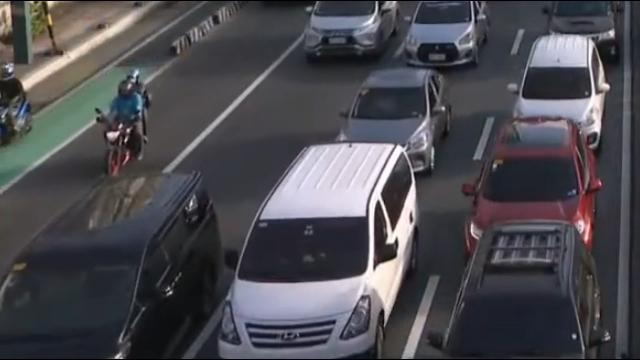car: (449, 123, 628, 246), (447, 225, 602, 360), (325, 63, 461, 181), (500, 29, 613, 142), (291, 0, 399, 67), (403, 0, 499, 69), (542, 0, 624, 59)
motorcycle: (96, 67, 155, 176), (0, 64, 35, 147)
van: (214, 133, 429, 360), (0, 151, 217, 360)
